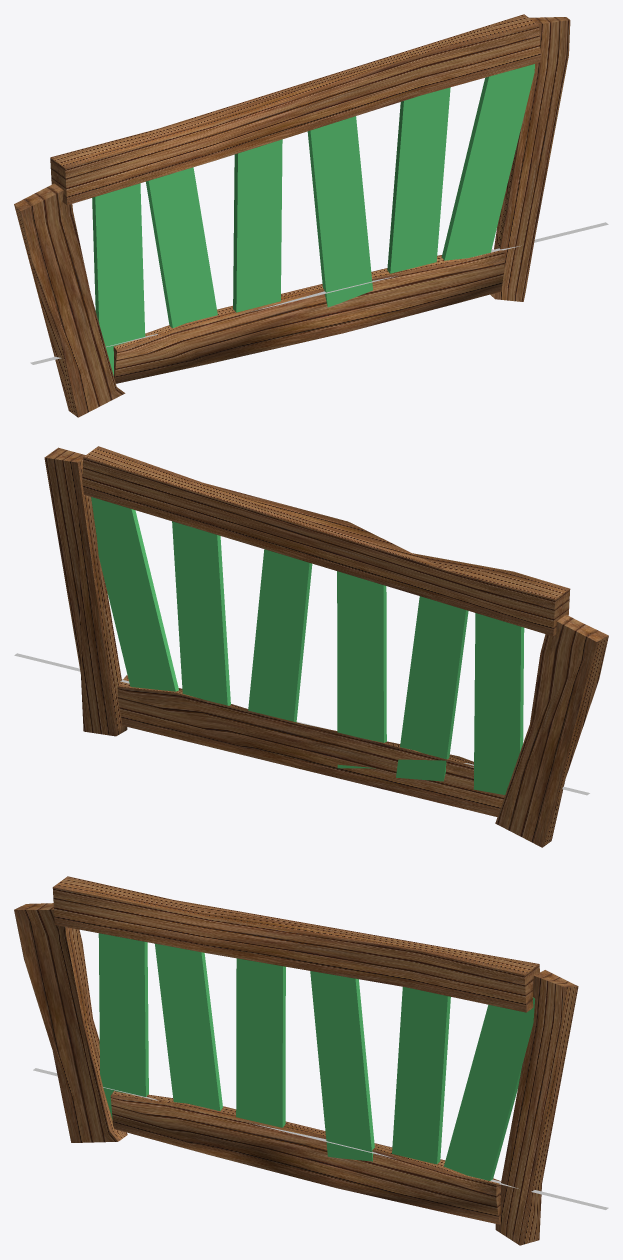
File: health_bar_broken.fbx
3 renders of one model, top to bottom at view 1: azimuth 30°, elevation 25°; view 2: azimuth 150°, elevation 25°; view 3: azimuth 330°, elevation 25°, orthographic.
Visible parts, largest first — view 1: Cube, Cube_4, Cube_3, Cube_1, Pieces_10_4, Pieces_10_6, Pieces_12, Pieces_7_6, Pieces_9_5, Pieces_7, Pieces_7_2, Pieces_7_4 (+39 smaller); view 2: Cube, Cube_4, Cube_3, Cube_1, Pieces_10_6, Pieces_10_2, Pieces_7_6, Pieces_7_3, Pieces_10_4, Pieces_9_5, Pieces_12, Pieces_7 (+42 smaller); view 3: Cube, Cube_4, Cube_3, Cube_1, Pieces_10_4, Pieces_10_6, Pieces_1_2, Pieces_1, Pieces_1_3, Pieces_1_4, Pieces_10, Pieces_1_6 (+40 smaller).
Part boxes in pixels (x1=…): Cube: x1=50, y1=14, x2=541, y2=205; Cube_4: x1=113, y1=249, x2=504, y2=383; Cube_3: x1=14, y1=183, x2=125, y2=417; Cube_1: x1=490, y1=17, x2=570, y2=301; Pieces_10_4: x1=320, y1=241, x2=368, y2=307; Pieces_10_6: x1=441, y1=211, x2=499, y2=260; Pieces_12: x1=387, y1=224, x2=439, y2=273; Pieces_7_6: x1=463, y1=122, x2=512, y2=170; Pieces_9_5: x1=394, y1=139, x2=440, y2=186; Pieces_7: x1=93, y1=227, x2=136, y2=273; Pieces_7_2: x1=151, y1=212, x2=196, y2=262; Pieces_7_4: x1=311, y1=165, x2=356, y2=213; Cube: x1=82, y1=446, x2=570, y2=636; Cube_4: x1=117, y1=675, x2=504, y2=816; Cube_3: x1=495, y1=614, x2=608, y2=847; Cube_1: x1=44, y1=447, x2=127, y2=736; Pieces_10_6: x1=122, y1=644, x2=178, y2=691; Pieces_10_2: x1=403, y1=722, x2=451, y2=781; Pieces_7_6: x1=107, y1=554, x2=157, y2=602; Pieces_7_3: x1=342, y1=628, x2=386, y2=675; Pieces_10_4: x1=252, y1=674, x2=299, y2=722; Pieces_9_5: x1=180, y1=571, x2=225, y2=619; Pieces_12: x1=181, y1=658, x2=230, y2=705; Pieces_7: x1=479, y1=659, x2=523, y2=706; Cube: x1=52, y1=876, x2=539, y2=1012; Cube_4: x1=110, y1=1091, x2=500, y2=1224; Cube_3: x1=14, y1=903, x2=127, y2=1142; Cube_1: x1=495, y1=970, x2=578, y2=1245; Pieces_10_4: x1=323, y1=1101, x2=370, y2=1157; Pieces_10_6: x1=444, y1=1130, x2=500, y2=1171; Pieces_1_2: x1=167, y1=1004, x2=213, y2=1053; Pieces_1: x1=101, y1=992, x2=148, y2=1035; Pieces_1_3: x1=238, y1=1031, x2=285, y2=1073; Pieces_1_4: x1=320, y1=1035, x2=366, y2=1081; Pieces_10: x1=100, y1=1055, x2=148, y2=1105; Pieces_1_6: x1=467, y1=1082, x2=518, y2=1113.
Bounding box in the file's own units: 544 × 249 × 26.9.
Materials: 3 (1 with a texture image).
